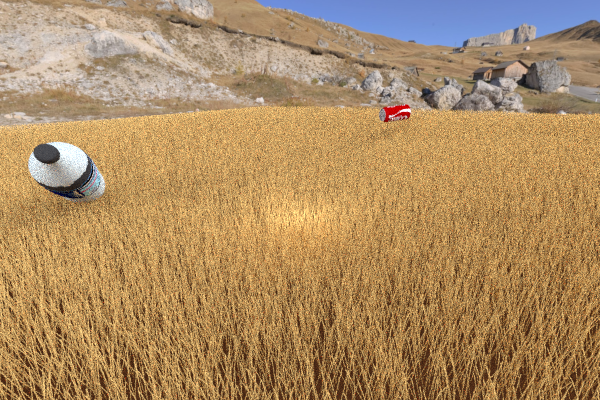bottle: (28, 142, 105, 203)
can: (219, 113, 253, 150), (378, 104, 411, 122)
